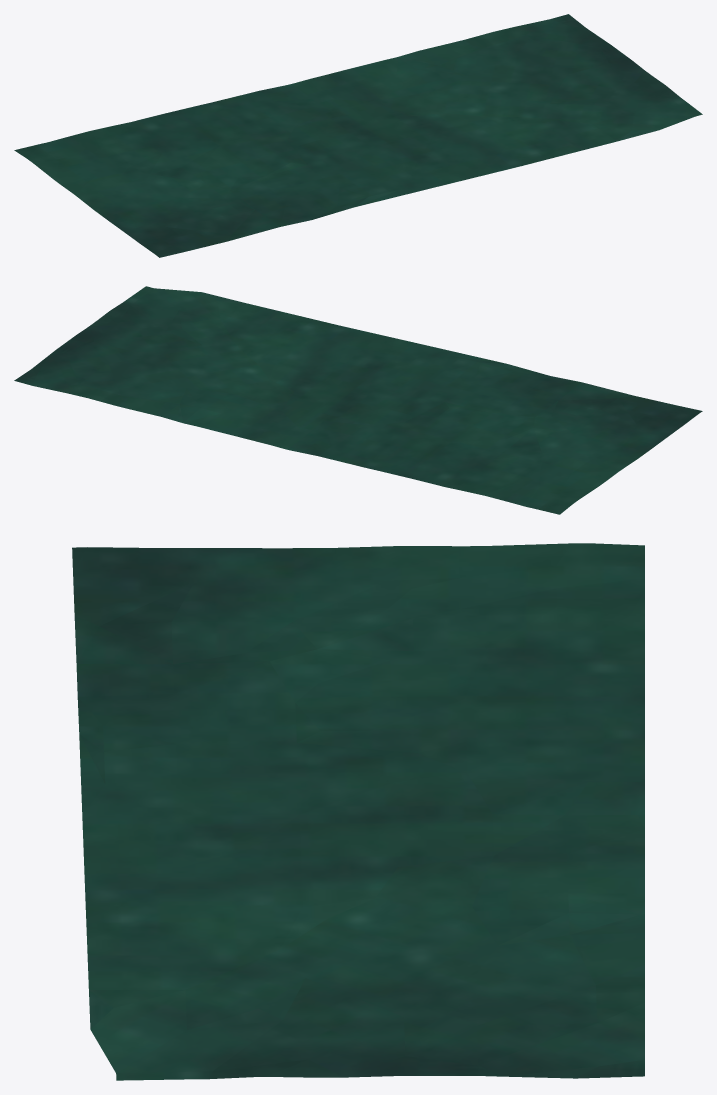
3 views of the same model, one above another, from view 1: azimuth 30°, elevation 25°; view 2: azimuth 150°, elevation 25°; view 3: azimuth 270°, elevation 25° (orthographic). The views are drawn at different scales.
Size of the model in its own units: 52.22 by 0.3537 by 23.73.
Materials: 1 (1 with a texture image).
